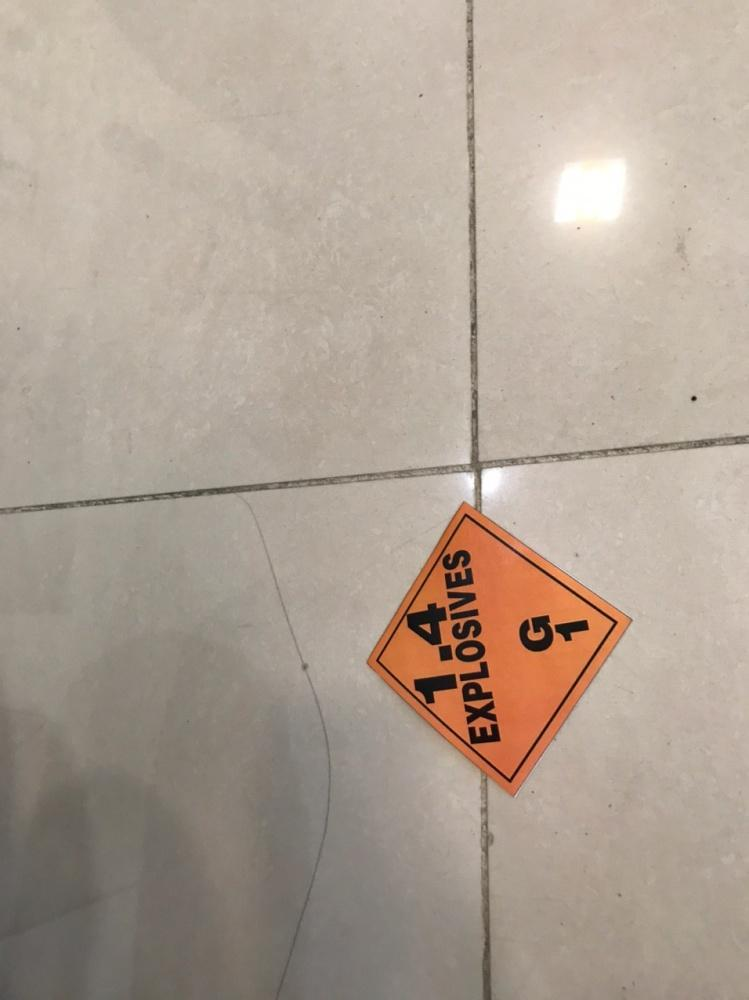explosive: (365, 505, 633, 792)
